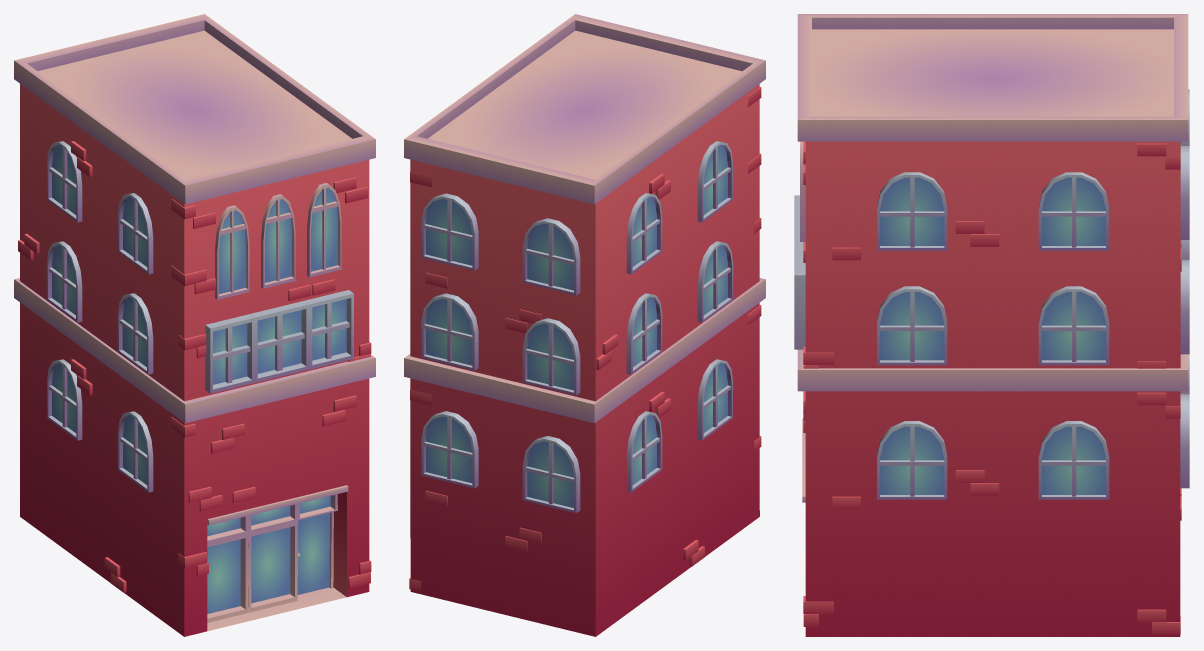
The picture shows the model from 3 angles, left to right: view 1: azimuth 30°, elevation 25°; view 2: azimuth 150°, elevation 25°; view 3: azimuth 270°, elevation 25°; orthographic projection. The views are drawn at different scales.
Visible parts, largest first — view 1: SM_4F_08; view 2: SM_4F_08; view 3: SM_4F_08.
Boxes of the visible parts, box(x1,y1,x2,y2) form: SM_4F_08: box(14, 14, 375, 636); SM_4F_08: box(404, 14, 765, 636); SM_4F_08: box(794, 14, 1189, 636).
Bounding box in the file's own units: 6.01 × 9.26 × 13.41.
